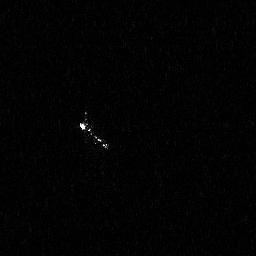ship: (78, 108, 112, 152)
